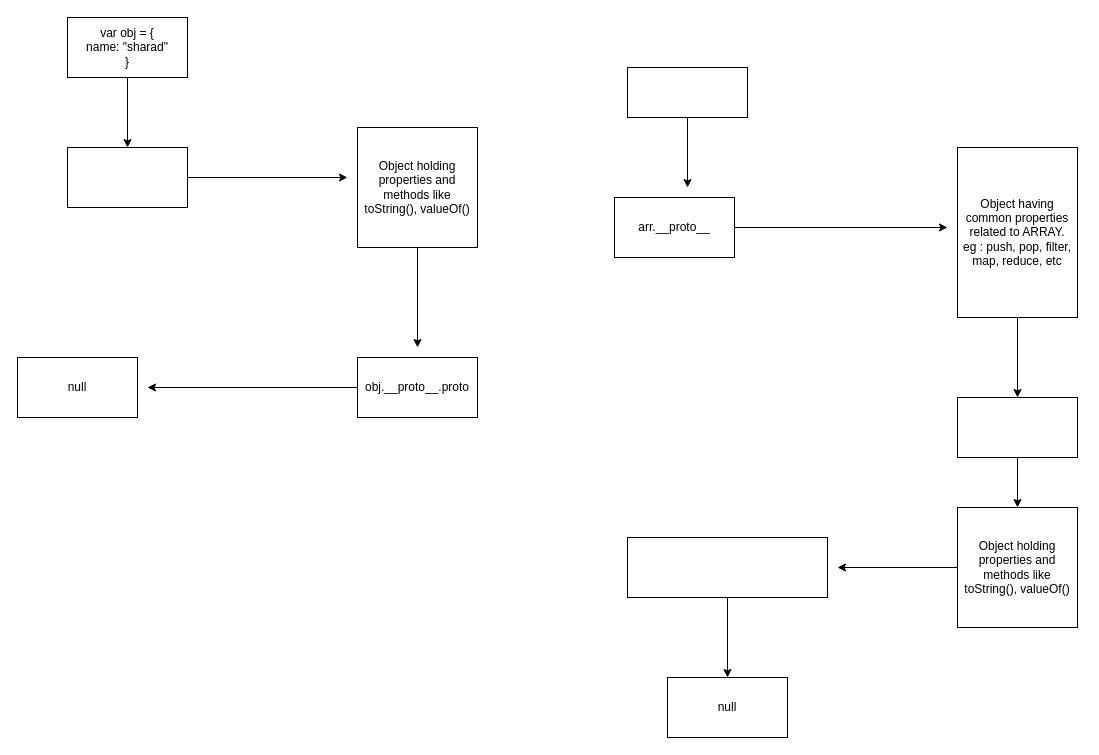
Image size: 1099x755. Some labels were removed from this diagram. Here are the shapes that lost their labels. From the top down, the box of each, then its label:
(626, 66, 748, 118): var arr = [1,2,3]
(66, 146, 188, 208): obj.__proto__
(956, 396, 1078, 458): arr.__proto__.__proto__
(626, 536, 828, 598): arr.__proto__.__proto__.__proto__
